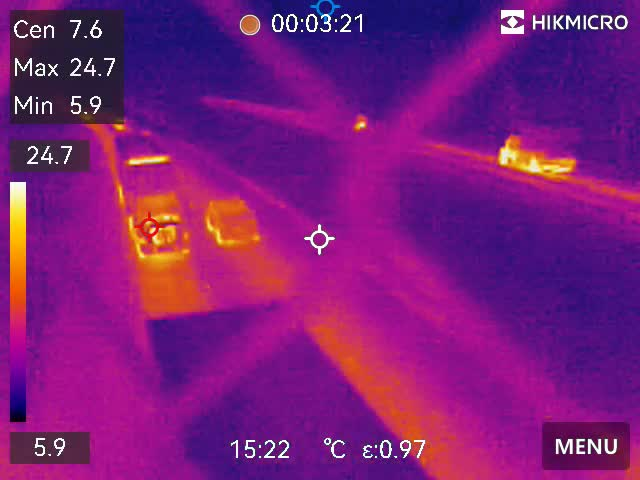heavyTruck: (112, 140, 192, 266), (497, 124, 591, 176)
